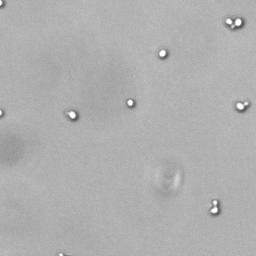budding: (221, 13, 247, 30), (232, 94, 252, 113), (206, 195, 224, 216), (62, 107, 80, 122)
individual: (155, 46, 170, 60), (124, 95, 137, 109)
